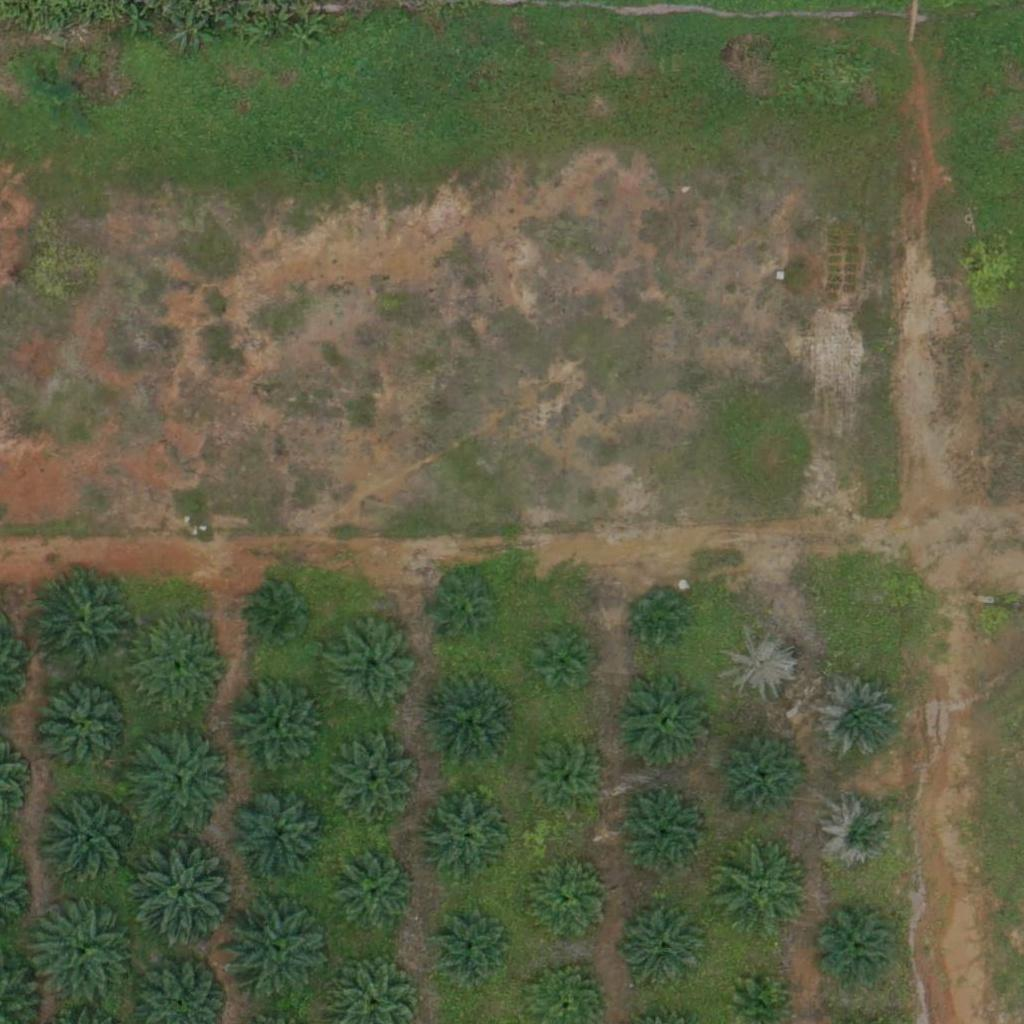Kelapa_Sawit: (222, 893, 335, 1006), (25, 896, 137, 1010), (29, 567, 141, 680), (129, 837, 241, 950), (38, 681, 138, 782), (40, 787, 140, 888), (131, 619, 231, 720), (133, 725, 233, 826), (227, 677, 327, 778), (230, 785, 330, 886), (324, 615, 424, 716), (616, 673, 716, 773), (715, 727, 815, 827), (715, 841, 815, 941), (332, 739, 420, 828), (426, 682, 514, 770), (423, 795, 511, 883), (525, 861, 613, 949), (811, 675, 899, 763), (813, 905, 901, 993), (329, 853, 416, 941), (621, 790, 708, 878), (620, 906, 707, 994), (722, 626, 797, 702), (823, 796, 898, 872), (528, 745, 603, 820), (432, 913, 507, 988), (433, 578, 496, 641), (530, 625, 593, 688), (250, 580, 313, 643), (626, 586, 688, 648)
